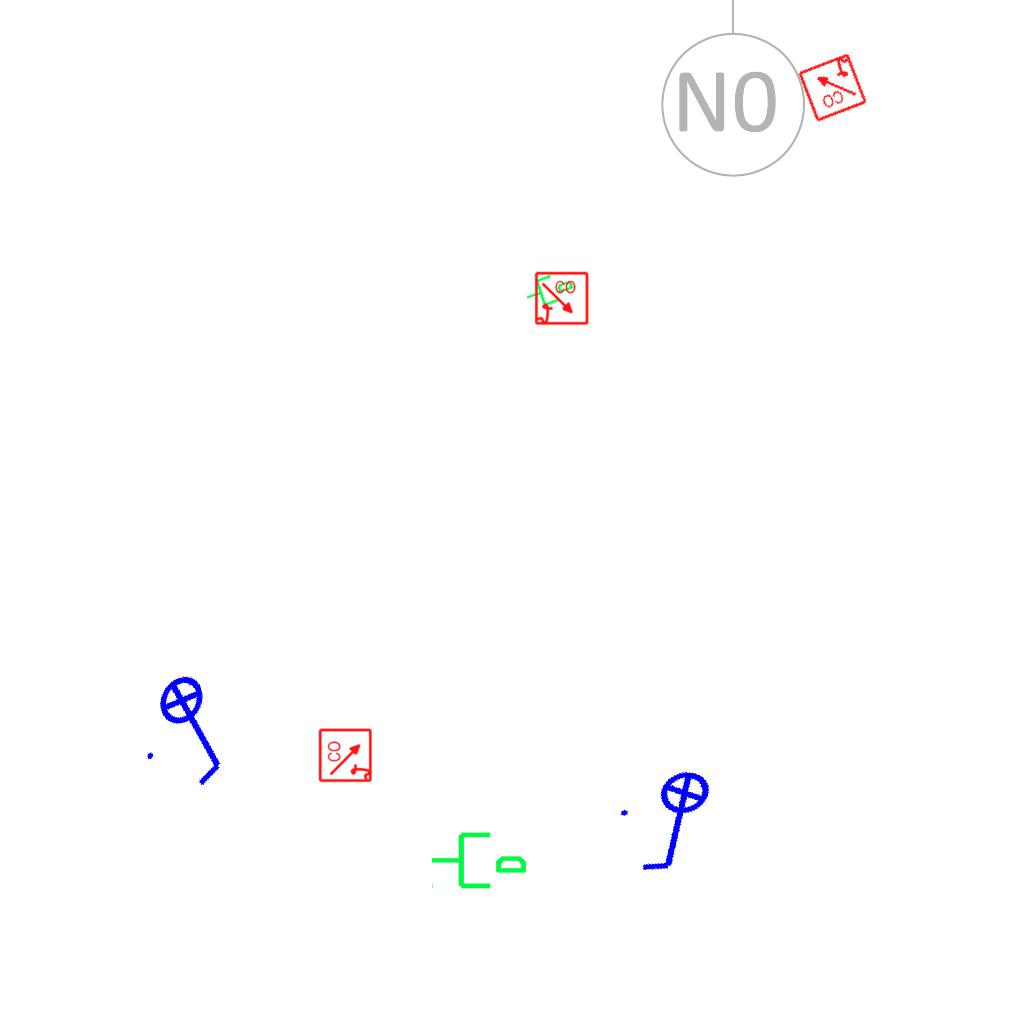Ausschalter_beleuchtet: (126, 655, 266, 801), (608, 759, 746, 887)
Datenanschluss_einfach: (429, 824, 529, 893), (519, 264, 579, 314)
ROA_Rauchmelder_optisch_mit_Signalgeber_(Sockelsirene): (795, 50, 869, 124), (318, 727, 374, 783), (534, 271, 590, 327)
